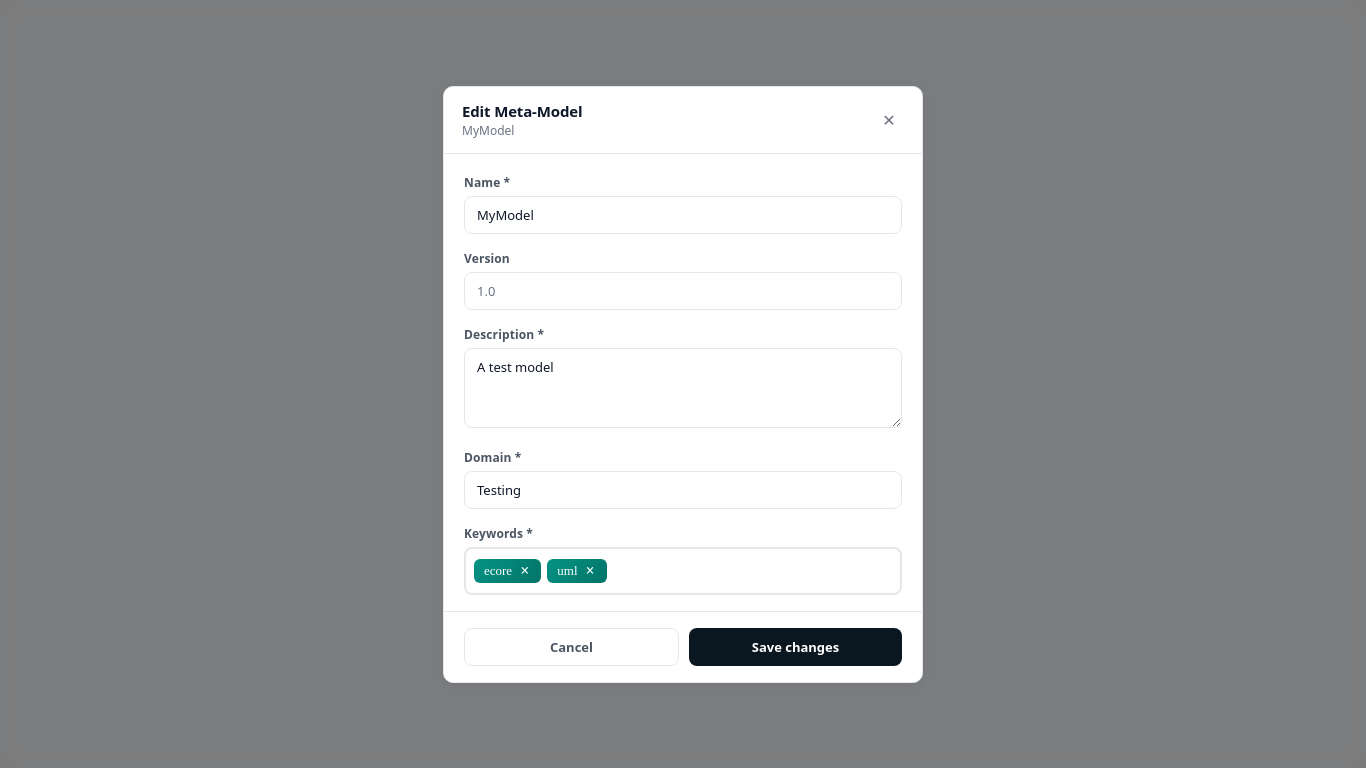
Test: EditMetaModelModal – submit button state › disables the submit button when name is empty
Step 1. Clear the field showing "MyModel" below "Name *" → (683, 214), box top-left (464, 196), bottom-right (902, 234)
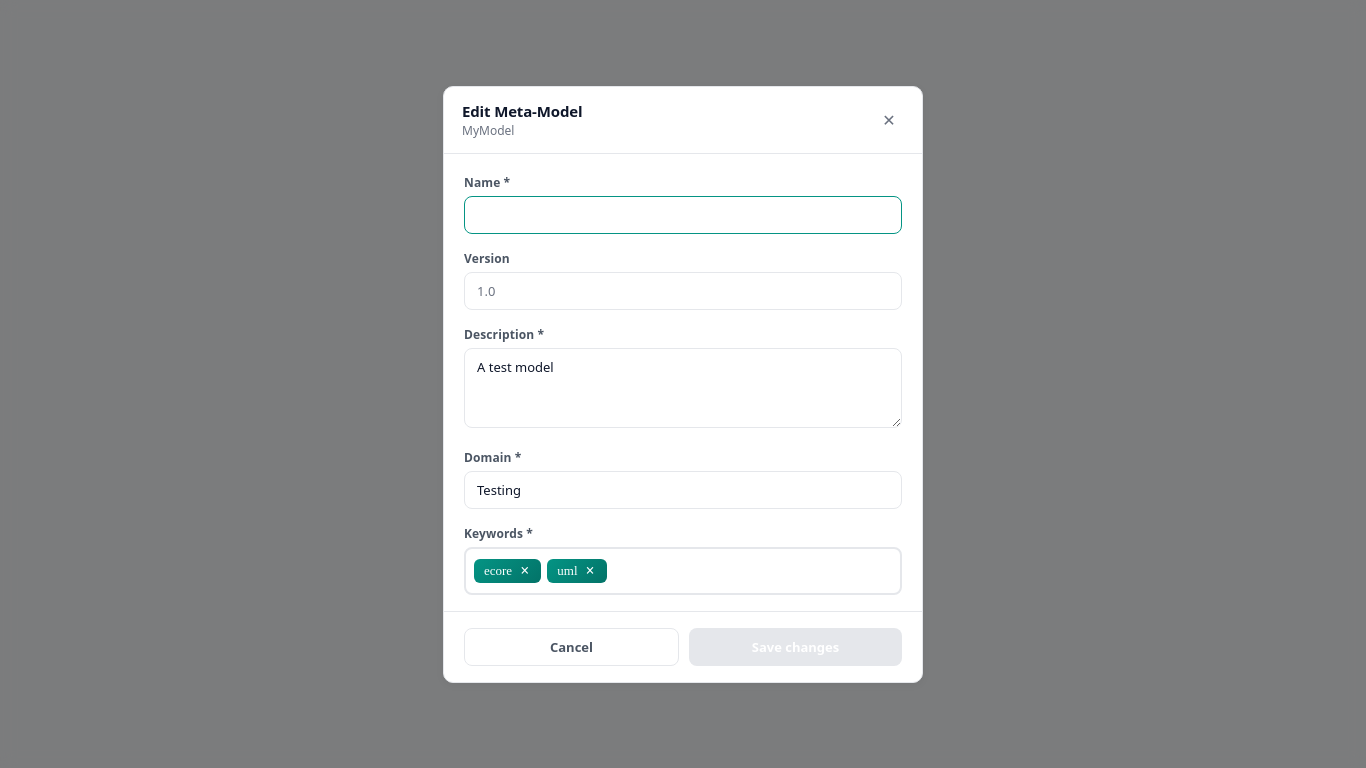
Check: the button "Save changes" is disabled, box top-left (689, 628), bottom-right (902, 666)
